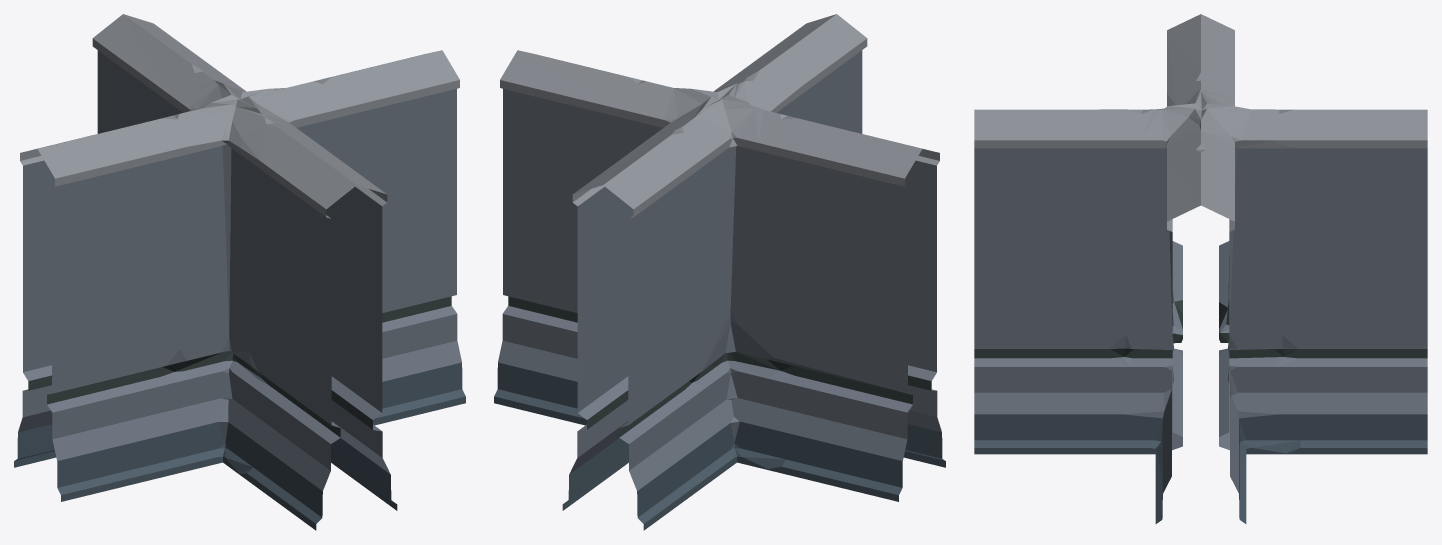
File: CrossSection.fbx
3 views of the same model, side by side, from view 1: azimuth 30°, elevation 25°; view 2: azimuth 150°, elevation 25°; view 3: azimuth 270°, elevation 25° (orthographic). The views are drawn at different scales.
Parts seen in each view (by area): view 1: CrossSection; view 2: CrossSection; view 3: CrossSection.
Part boxes in pixels (box(x1,y1,x2,y2)): CrossSection: box(14, 14, 465, 530); CrossSection: box(494, 14, 945, 530); CrossSection: box(974, 14, 1427, 523).
Bounding box in the file's own units: 600 × 481 × 600.
